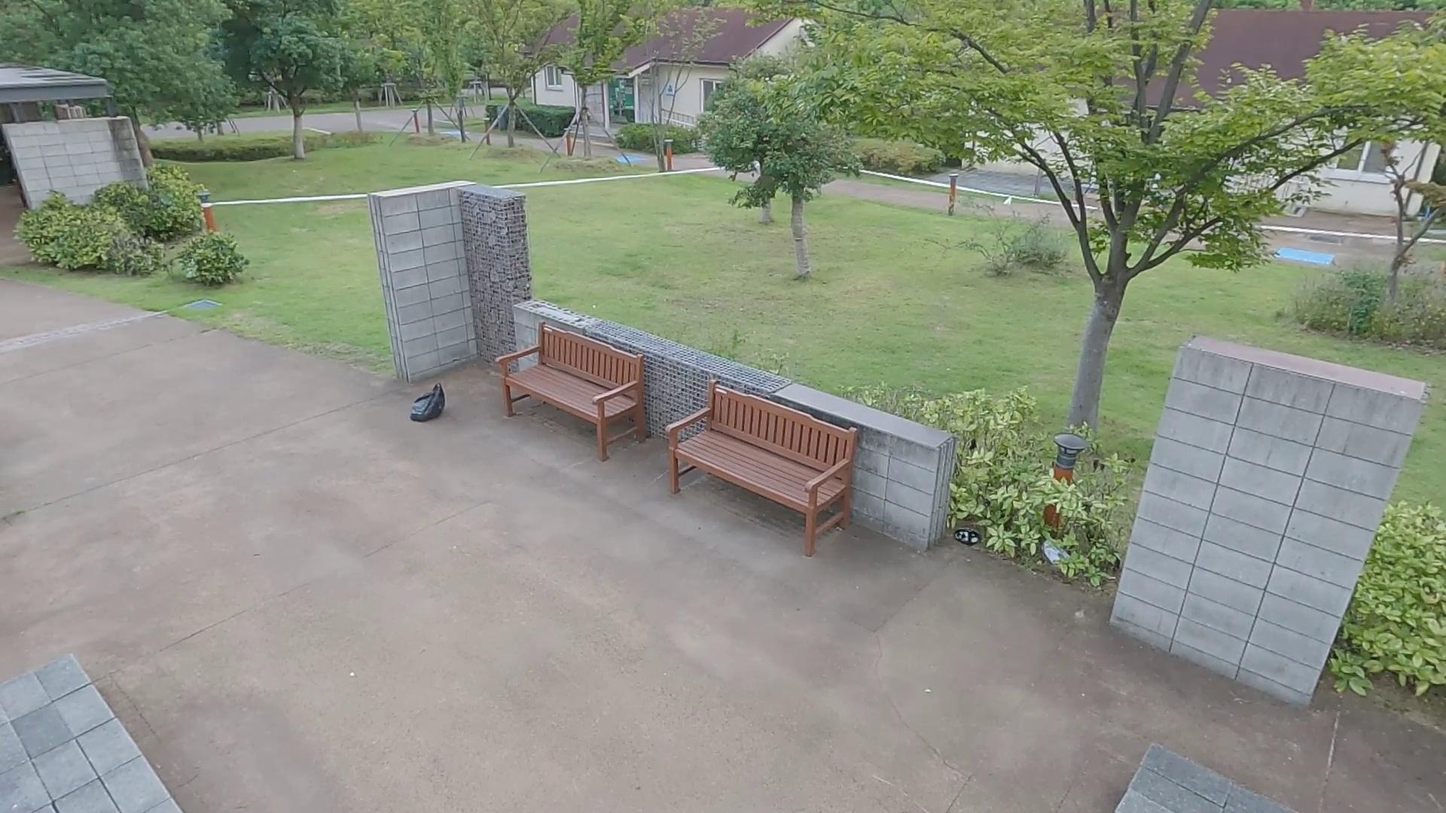trash: (411, 383, 447, 423)
